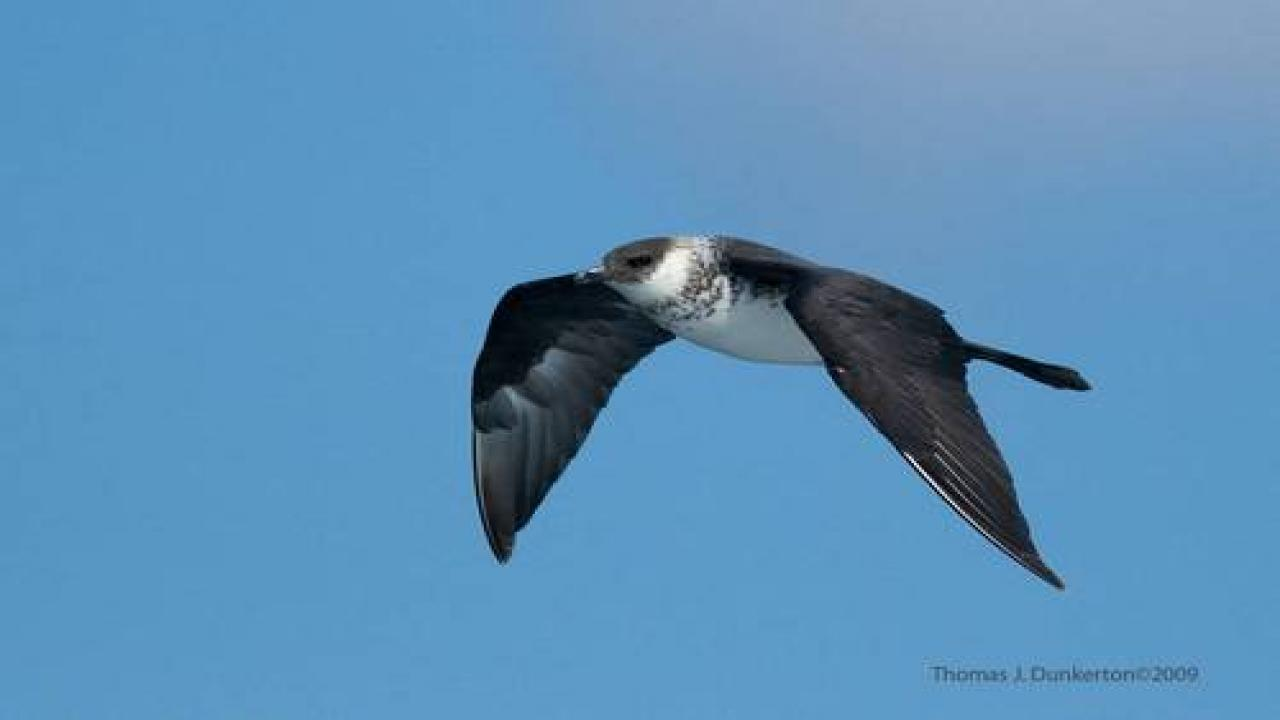Bird: (466, 219, 1103, 599)
